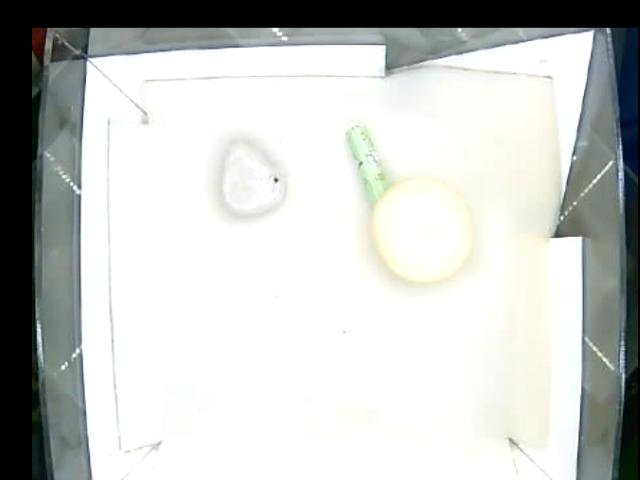Battery: (344, 125, 387, 206)
Mooli: (364, 174, 473, 289)
Pebble: (217, 133, 286, 219)
